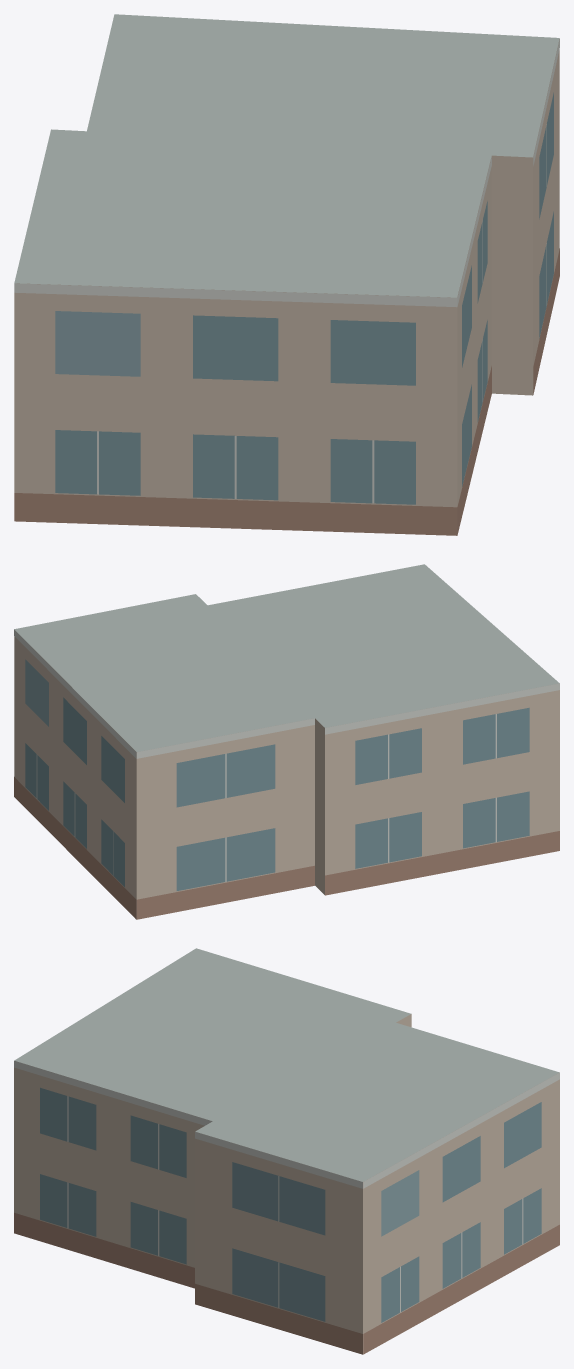
File: survey-upis-32654944.glb
3 renders of one model, top to bottom at view 1: azimuth 30°, elevation 25°; view 2: azimuth 150°, elevation 25°; view 3: azimuth 270°, elevation 25°, orthographic. The views are drawn at different scales.
Parts seen in each view (by area): view 1: survey-upis-32654944.tmp; view 2: survey-upis-32654944.tmp; view 3: survey-upis-32654944.tmp.
Part boxes in pixels (x1=…): survey-upis-32654944.tmp: x1=14, y1=14, x2=559, y2=535; survey-upis-32654944.tmp: x1=14, y1=564, x2=559, y2=919; survey-upis-32654944.tmp: x1=14, y1=948, x2=559, y2=1354.
Bounding box in the file's own units: 17.72 × 6.1 × 17.48.
